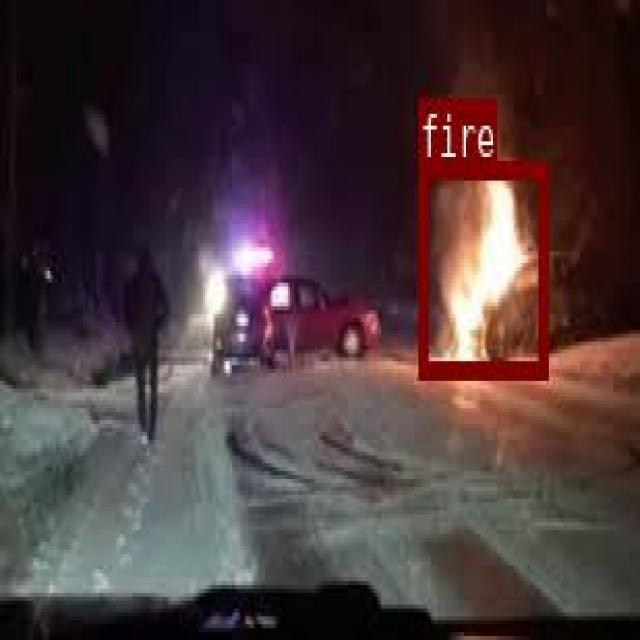fire: (419, 160, 547, 373)
